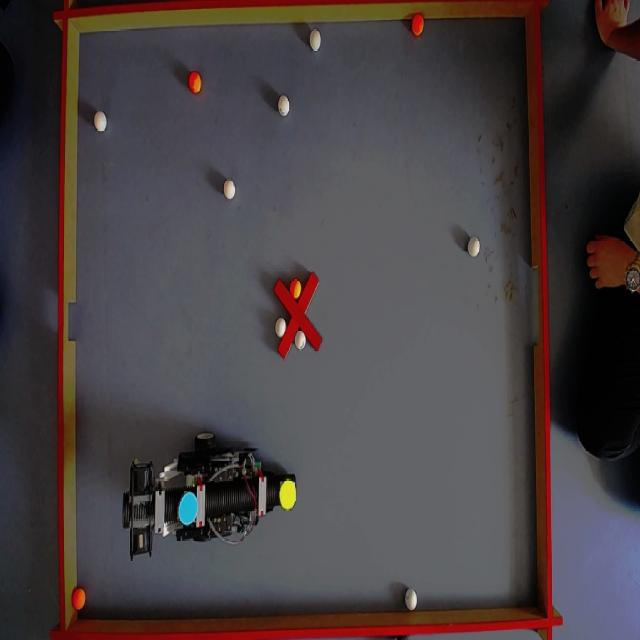orange: (188, 73, 203, 94), (409, 15, 424, 35), (290, 278, 302, 300), (74, 588, 86, 610)
robot: (116, 438, 304, 559)
robot-front: (279, 480, 298, 511)
robot-rear: (178, 492, 200, 524)
white: (405, 588, 419, 610), (94, 112, 107, 134), (309, 30, 321, 51), (278, 95, 290, 116), (225, 181, 237, 201), (470, 237, 482, 255), (294, 332, 306, 350), (275, 319, 286, 338)
